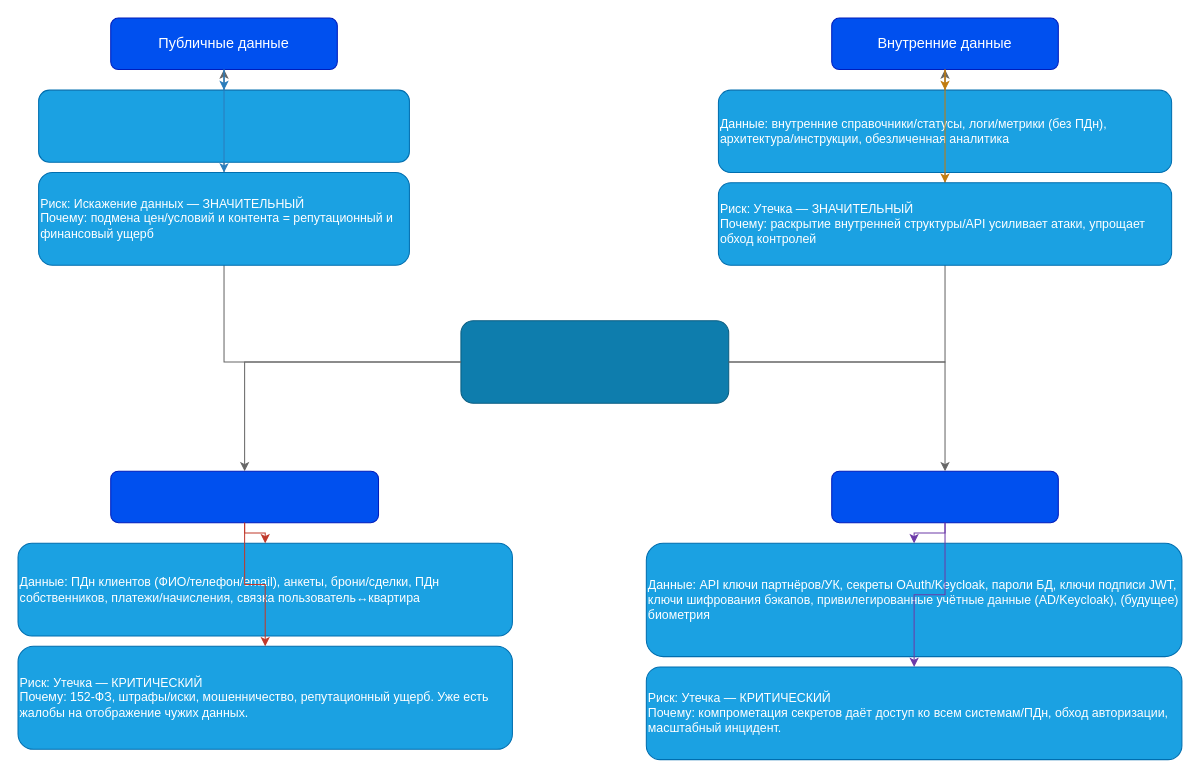
Image size: 1200x778. Some labels were removed from this diagram. Here are the shapes that lost their labels. From the top down, the centre of each, then its label:
At point 223,125: "Данные: каталог объектов, цены/описания, маркетинг, публичные контакты".
At point 594,361: "Безопасность данных".
At point 244,496: "Конфиденциальные данные".
At point 944,496: "Секретные данные".
